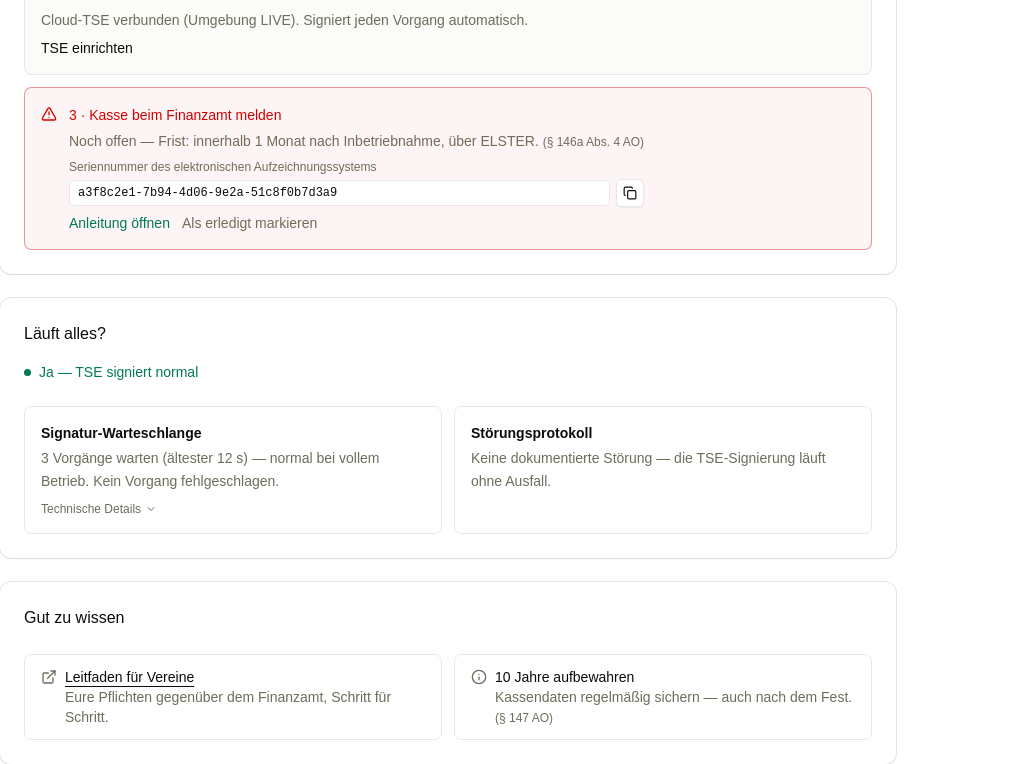
Scenario: FinanzamtPage — Collapsibles › blendet die Roh-Metriken erst nach Klick auf „Technische Details" ein
(page scrolled)
Expected: the text "Signaturen/Minute" is not shown
Click the button "Technische Details".
click(99, 508)  # box 41,500 -> 157,516
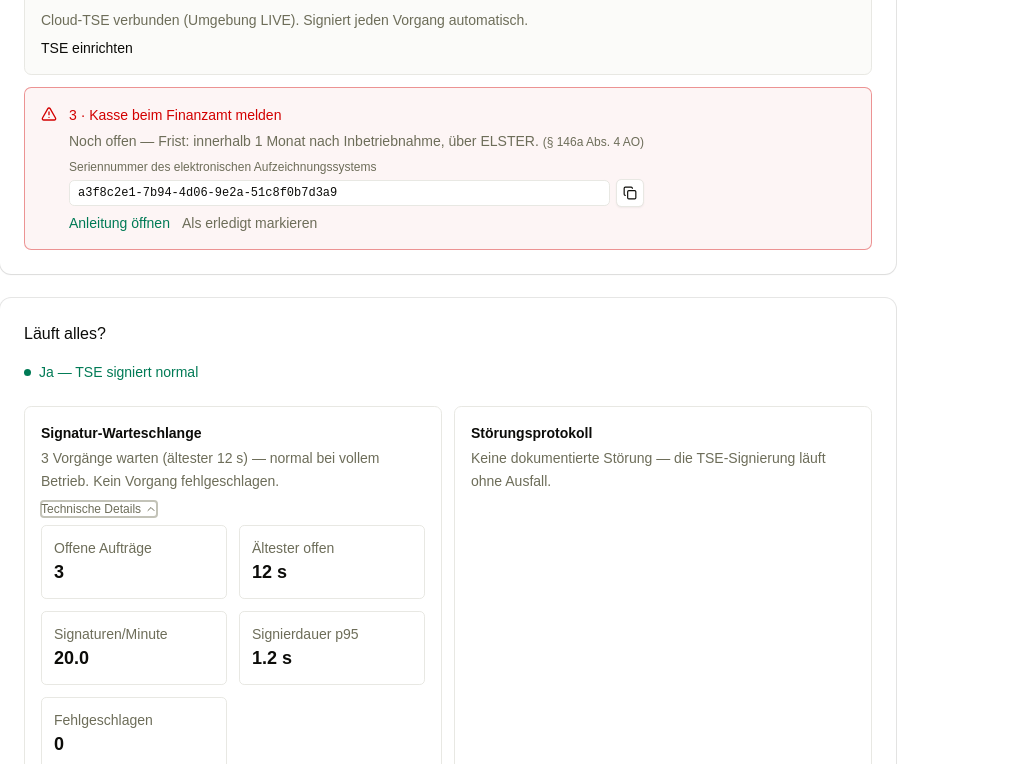
Expected: the text "Signaturen/Minute" is shown, 54,626 -> 168,642
